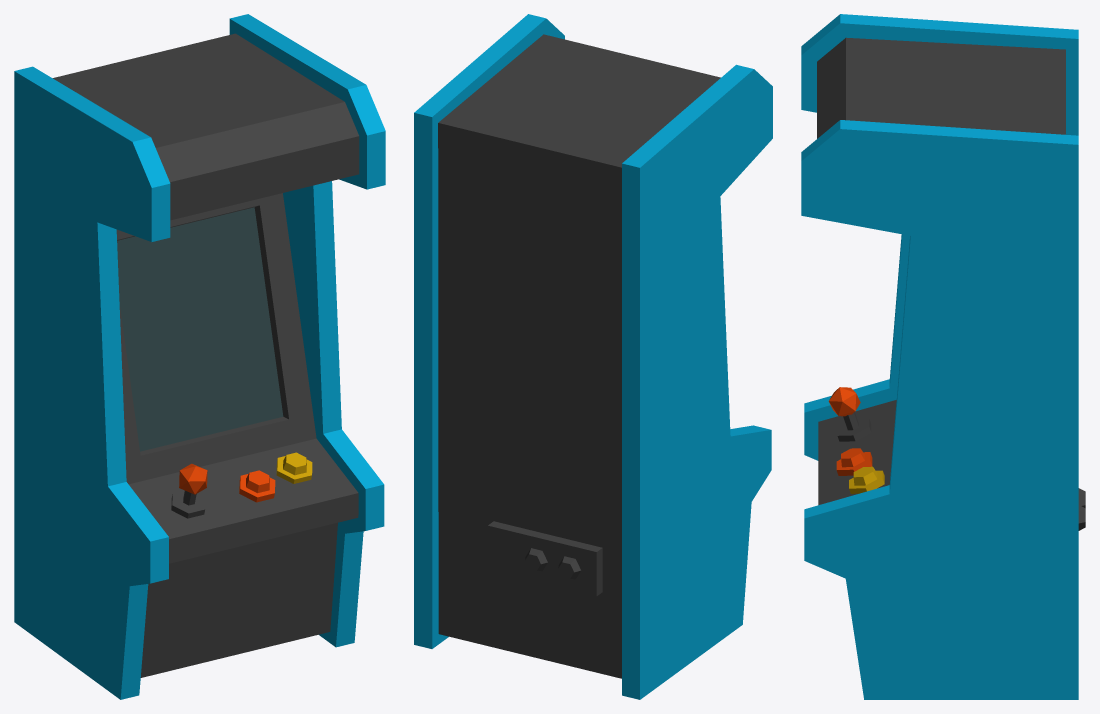
File: arcade.glb
3 renders of one model, left to right at view 1: azimuth 30°, elevation 25°; view 2: azimuth 150°, elevation 25°; view 3: azimuth 270°, elevation 25°, orthographic. The views are drawn at different scales.
Parts seen in each view (by area): view 1: gamemachine_01; view 2: gamemachine_01; view 3: gamemachine_01.
Boxes of the visible parts, box(x1,y1,x2,y2) form: gamemachine_01: box(14, 14, 385, 699); gamemachine_01: box(414, 14, 772, 699); gamemachine_01: box(801, 14, 1085, 699).
Size of the model in its own units: 0.8 by 1.85 by 0.8352.
